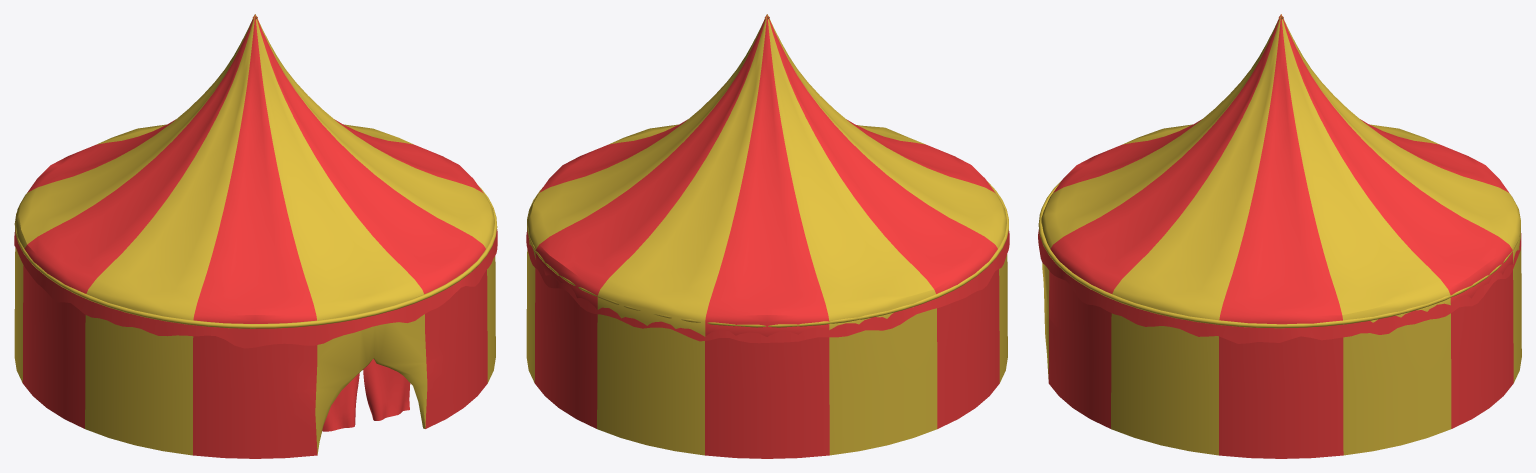
The model's file is tent exterior.fbx.
The picture shows the model from 3 angles, left to right: view 1: azimuth 30°, elevation 25°; view 2: azimuth 150°, elevation 25°; view 3: azimuth 270°, elevation 25°; orthographic projection.
Visible parts, largest first — view 1: Sweep_1, Plane_1, Plane_3; view 2: Sweep_1; view 3: Sweep_1.
Boxes of the visible parts, left/top/right/bottom form: Sweep_1: left=14, top=14, right=497, bottom=458; Plane_1: left=363, top=359, right=410, bottom=420; Plane_3: left=322, top=373, right=359, bottom=431; Sweep_1: left=526, top=14, right=1009, bottom=458; Sweep_1: left=1038, top=14, right=1521, bottom=458.
Bounding box in the file's own units: 3151 × 2469 × 3153.
